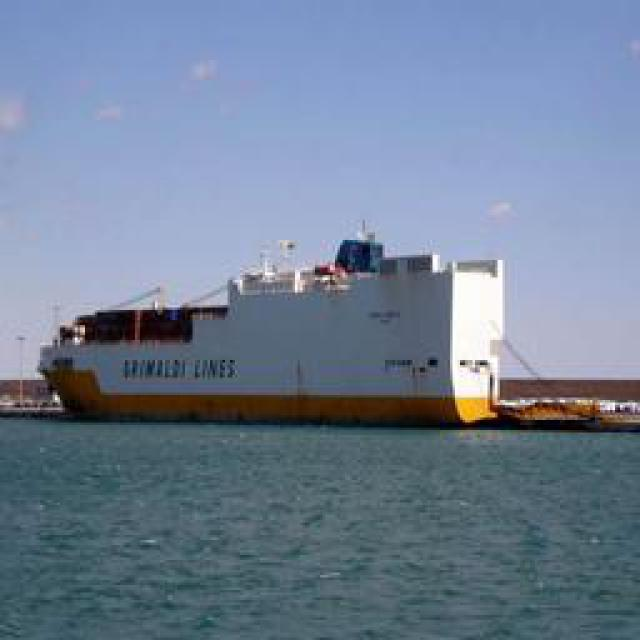Ship: (35, 220, 620, 425)
